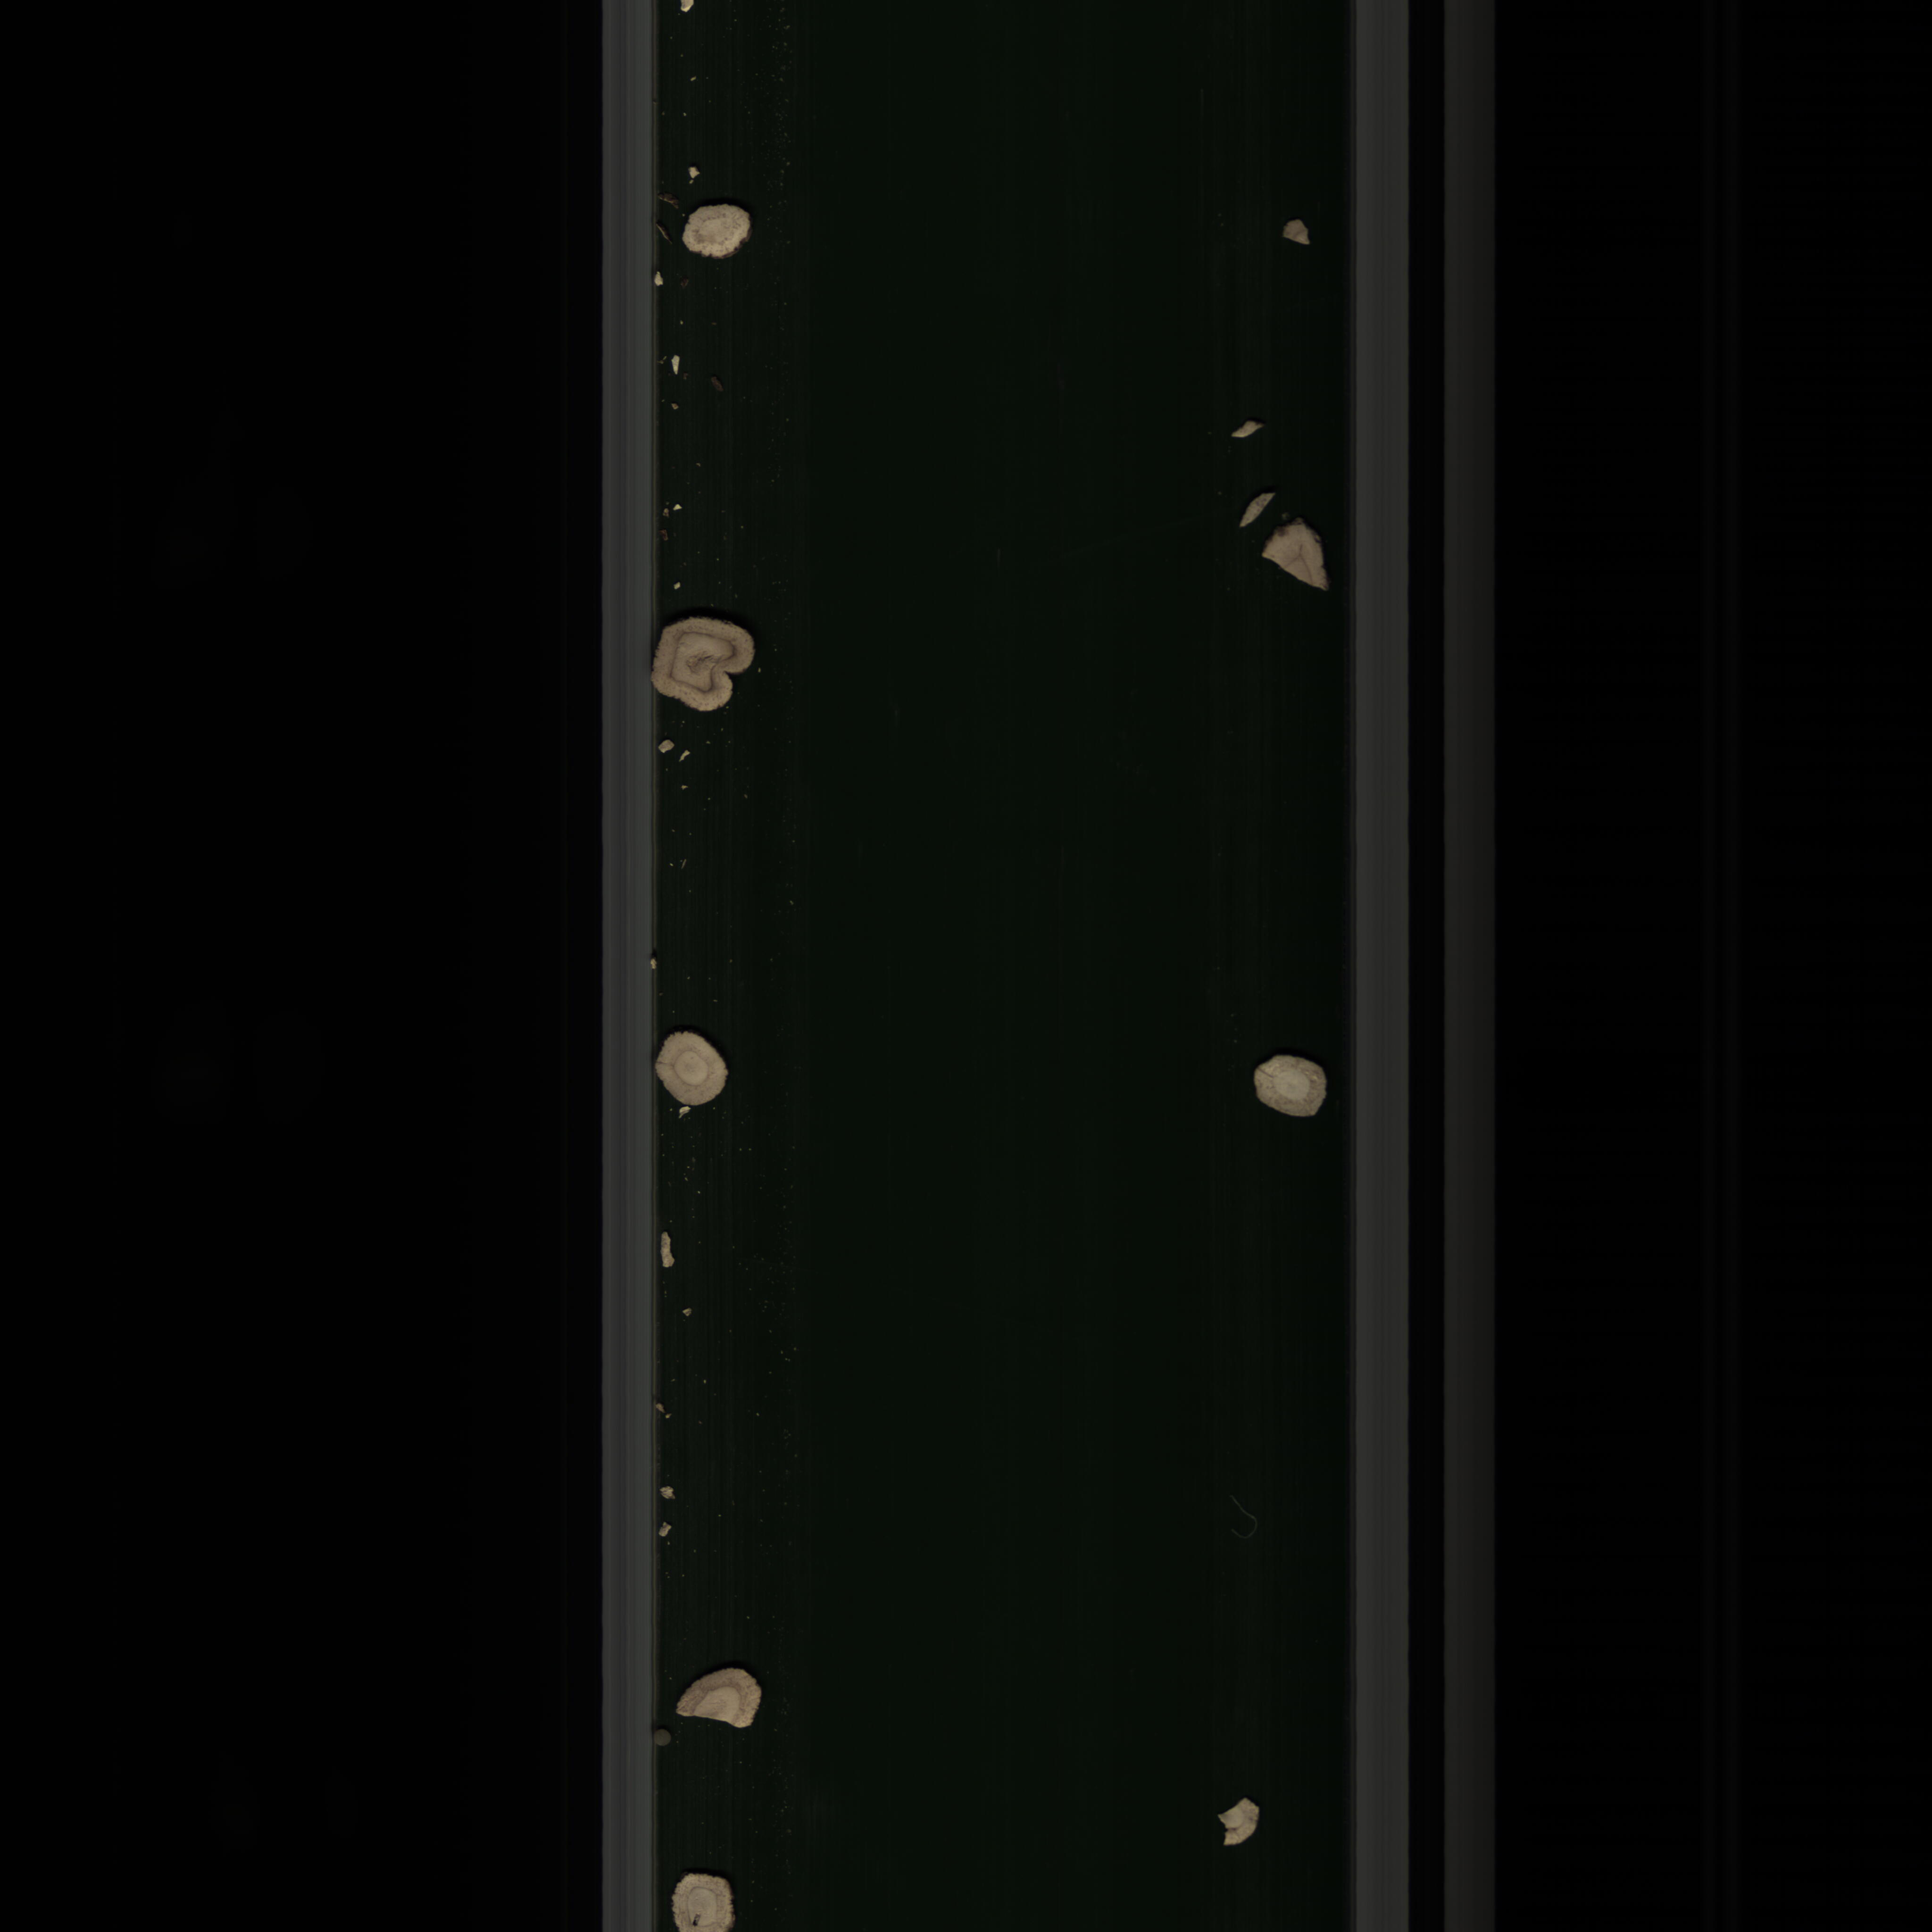debris: (663, 1652, 770, 1734), (1263, 522, 1336, 602), (1207, 1789, 1263, 1854)
moldy: (651, 614, 766, 729)
